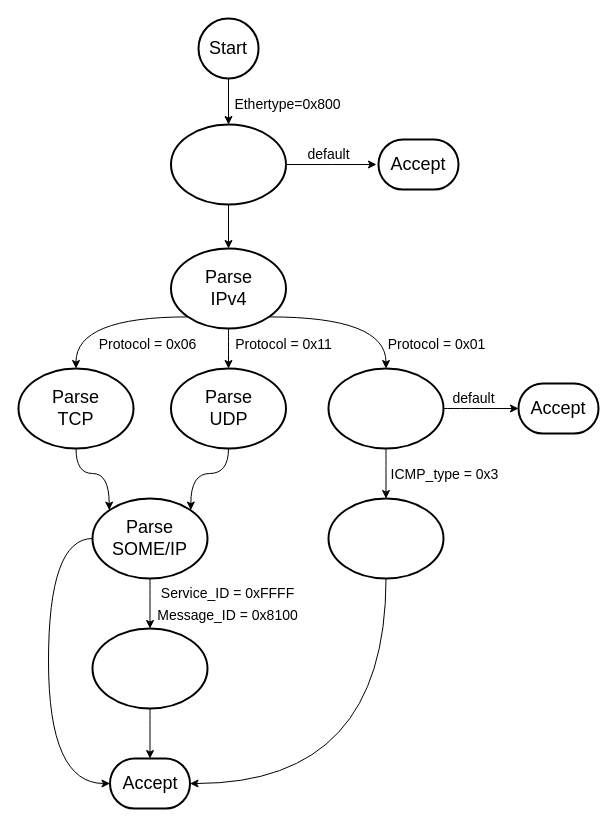
Some shapes in this 616 by 826 pixel diagram are drawn without their labels. The shapes that lost their labels are listed below. From the top down, each one's centre as x and y in pixels, then its label:
point (228, 164): Parse Ethernet
point (385, 408): Parse ICMP
point (385, 538): Parse ICMP payload
point (149, 668): Parse SOME/IP-SD
